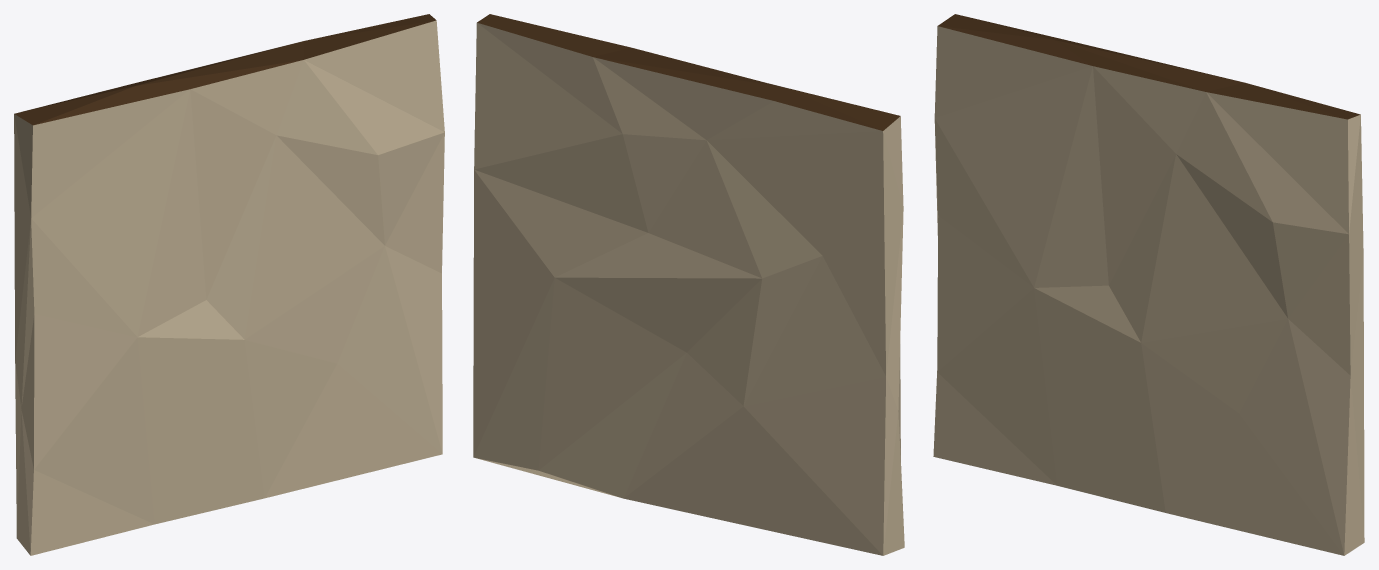
The model's file is cubicle_wall_half.fbx.
3 views of the same model, side by side, from view 1: azimuth 30°, elevation 25°; view 2: azimuth 150°, elevation 25°; view 3: azimuth 330°, elevation 25° (orthographic).
Parts seen in each view (by area): view 1: cubicle_wall_half; view 2: cubicle_wall_half; view 3: cubicle_wall_half.
Boxes of the visible parts, x1,y1,x2,y2 form: cubicle_wall_half: [14, 14, 444, 555]; cubicle_wall_half: [473, 14, 904, 555]; cubicle_wall_half: [933, 14, 1364, 555].
Size of the model in its own units: 2.1 by 2.12 by 0.2305.
1 material, 1 textured.
